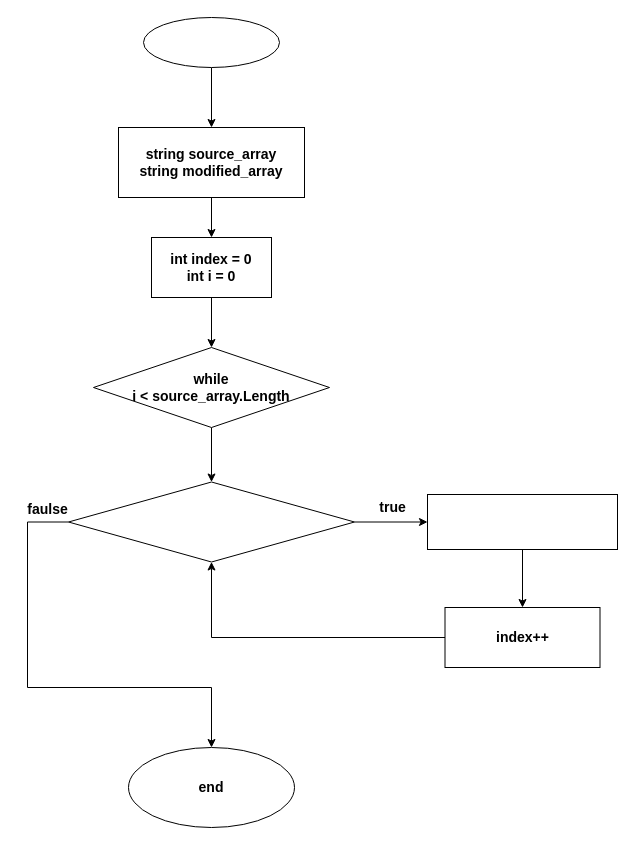
Some shapes in this 635 by 845 pixel diagram are drawn without their labels. The shapes that lost their labels are listed below. From the top down, each one's centre as x and y in pixels, then its label:
(x=211, y=42): start
(x=211, y=521): source_array[i].Length <= 3
(x=522, y=522): modified_array[index] = source_array[i]
